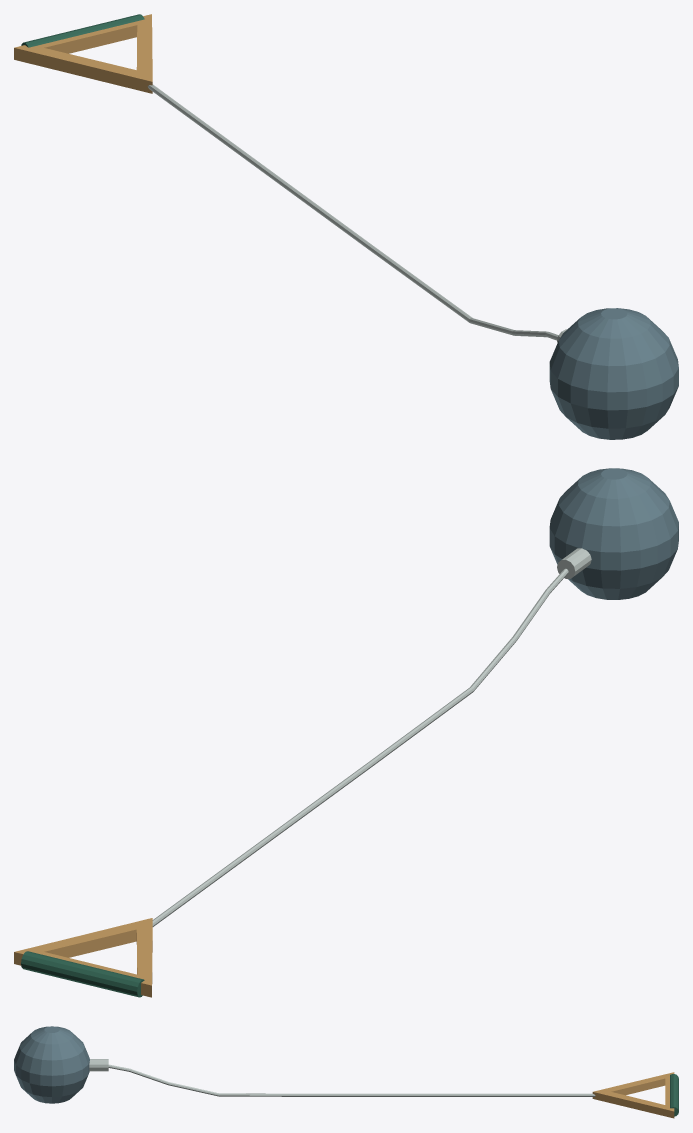
3 renders of one model, top to bottom at view 1: azimuth 30°, elevation 25°; view 2: azimuth 150°, elevation 25°; view 3: azimuth 270°, elevation 25°, orthographic. The views are drawn at different scales.
Visible parts, largest first — view 1: WholeFacetedNearSphericalHead, WholeOpenTriangularHandFrame, WholeContinuousLaidWire, WholeTransverseHandGrip; view 2: WholeFacetedNearSphericalHead, WholeContinuousLaidWire, WholeOpenTriangularHandFrame, WholeTransverseHandGrip; view 3: WholeFacetedNearSphericalHead, WholeContinuousLaidWire, WholeOpenTriangularHandFrame, WholeTransverseHandGrip, WholeSeatedHeadConnector.
Boxes of the visible parts, x1,y1,x2,y2 form: WholeFacetedNearSphericalHead: (549, 308, 678, 439); WholeOpenTriangularHandFrame: (14, 14, 152, 93); WholeContinuousLaidWire: (147, 84, 558, 340); WholeTransverseHandGrip: (21, 14, 144, 47); WholeFacetedNearSphericalHead: (549, 468, 678, 599); WholeContinuousLaidWire: (152, 568, 568, 926); WholeOpenTriangularHandFrame: (14, 918, 152, 997); WholeTransverseHandGrip: (21, 951, 144, 997); WholeFacetedNearSphericalHead: (14, 1026, 89, 1103); WholeContinuousLaidWire: (108, 1064, 595, 1096); WholeOpenTriangularHandFrame: (592, 1072, 674, 1118); WholeTransverseHandGrip: (670, 1074, 678, 1116); WholeSeatedHeadConnector: (89, 1059, 108, 1071).
Bounding box in the file's own units: 0.24 × 0.2 × 1.71.
